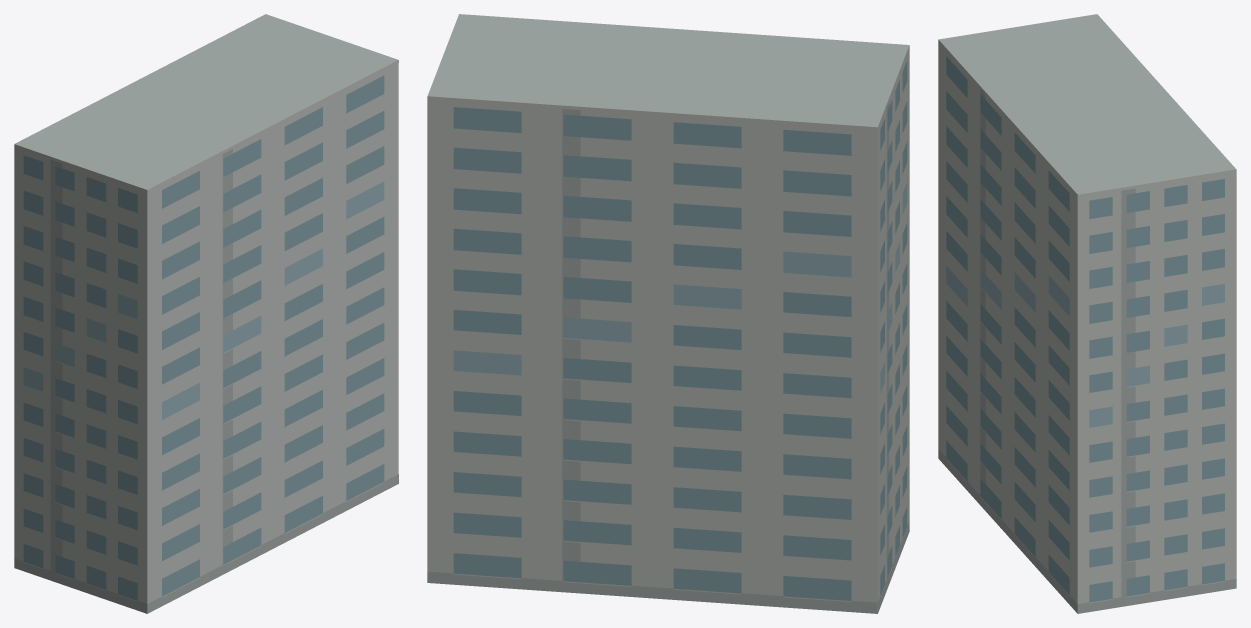
File: residential-e7af4c01-7b77-43dc-a572-ad98c204ed1d.glb
The picture shows the model from 3 angles, left to right: view 1: azimuth 30°, elevation 25°; view 2: azimuth 150°, elevation 25°; view 3: azimuth 270°, elevation 25°; orthographic projection. The views are drawn at different scales.
Visible parts, largest first — view 1: residential-e7af4c01-7b77-43dc-a572-ad98c204ed1d.tmp; view 2: residential-e7af4c01-7b77-43dc-a572-ad98c204ed1d.tmp; view 3: residential-e7af4c01-7b77-43dc-a572-ad98c204ed1d.tmp.
Part boxes in pixels (x1,y1,x2,y2): residential-e7af4c01-7b77-43dc-a572-ad98c204ed1d.tmp: (14, 14, 398, 613); residential-e7af4c01-7b77-43dc-a572-ad98c204ed1d.tmp: (427, 14, 909, 613); residential-e7af4c01-7b77-43dc-a572-ad98c204ed1d.tmp: (938, 14, 1236, 613).
Size of the model in its own units: 32.38 by 35 by 22.56.
